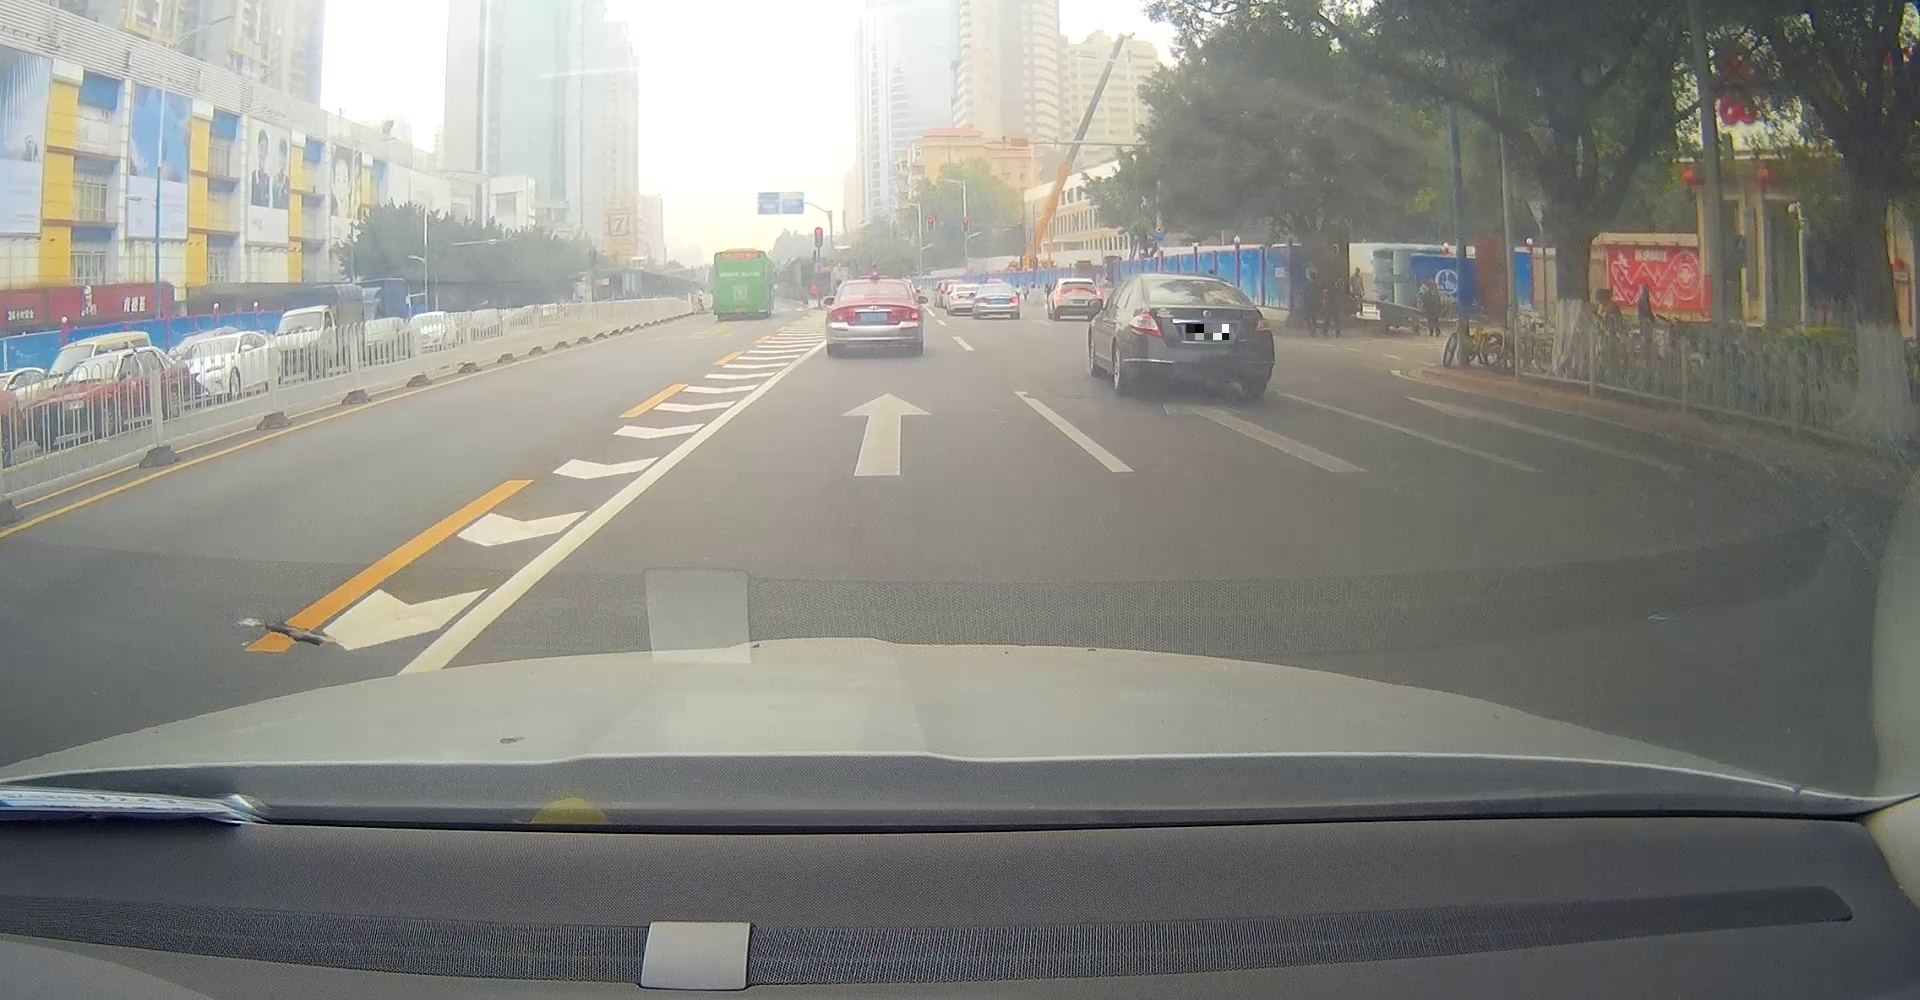L_light: (1129, 313, 1162, 338), (828, 310, 846, 324), (712, 292, 717, 306), (975, 297, 985, 303), (1057, 291, 1068, 296)
R_light: (1253, 319, 1272, 339), (899, 308, 921, 321), (762, 289, 768, 303), (1010, 297, 1018, 305), (1092, 289, 1102, 296)
T_light: (863, 294, 883, 301), (1178, 279, 1197, 283), (734, 259, 745, 263), (1070, 289, 1086, 292), (994, 286, 1002, 287)
day-brake: (1057, 279, 1103, 321)
day-no: (1124, 275, 1274, 398), (822, 278, 926, 357), (712, 247, 770, 322), (971, 284, 1021, 322)
plate_1: (1186, 324, 1229, 340)
